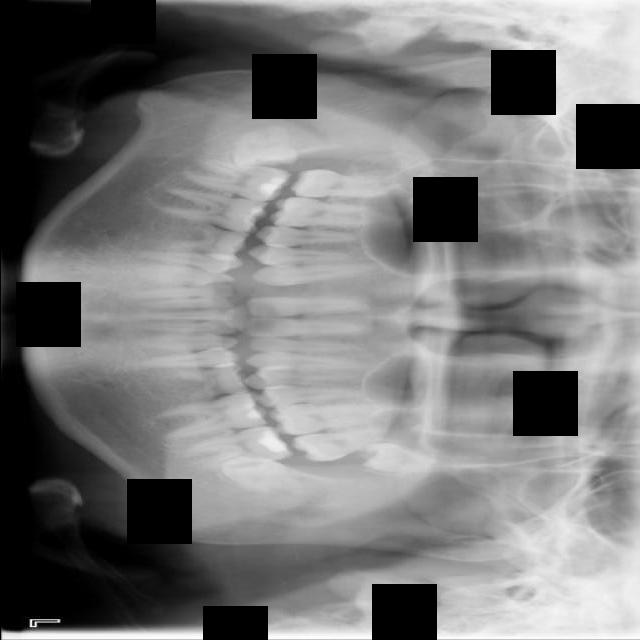52: (235, 410, 299, 473), (234, 157, 293, 210), (213, 189, 270, 240), (214, 388, 268, 434)
73: (92, 584, 102, 588)
BioHorizons Implant: (290, 425, 399, 465)
BioLife Implant: (358, 437, 446, 483)
Biomet 3i Implant: (216, 435, 292, 504)
Blue Sky Bio Implant: (182, 423, 295, 472)
Caries: (289, 166, 401, 199)
Implant: (178, 153, 294, 206)
Keystone Dental Implant: (228, 123, 300, 177)
